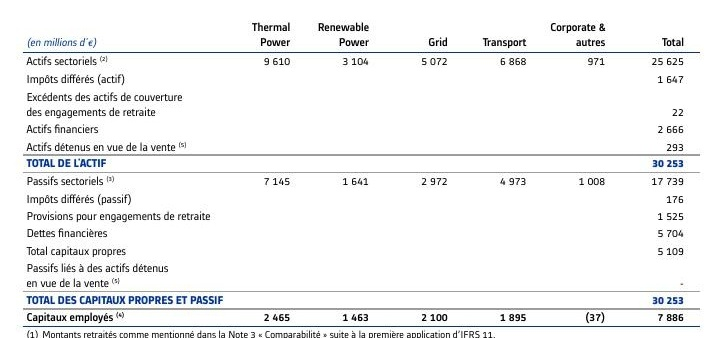table: (0, 0, 713, 338)
